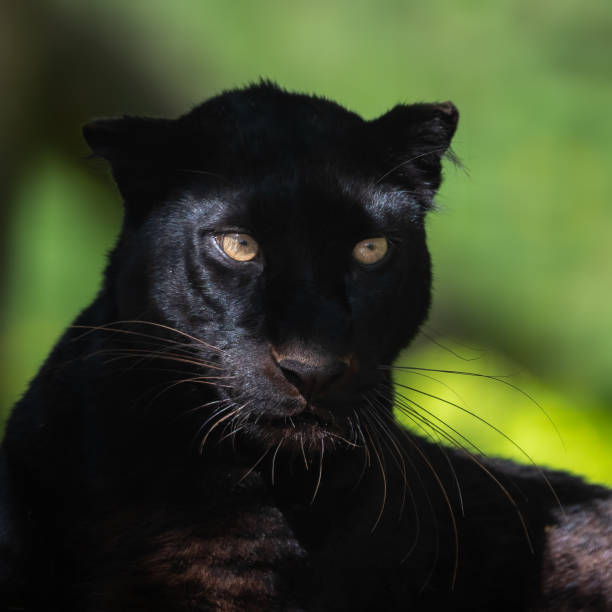panther: (63, 64, 514, 506)
